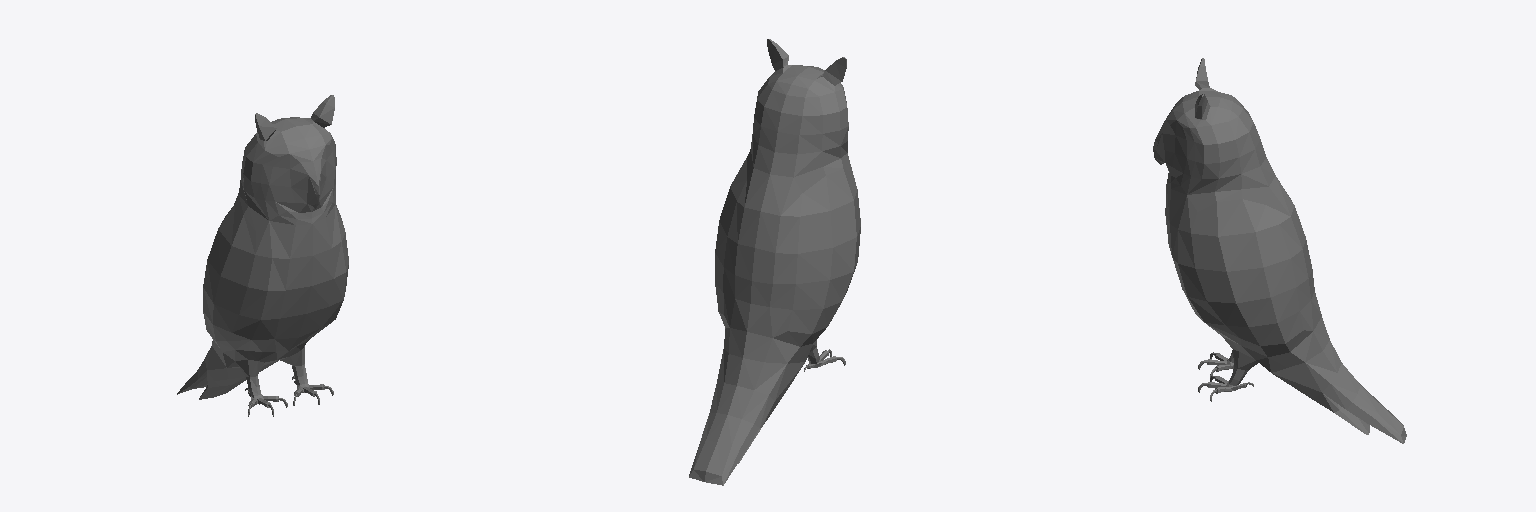
The model's file is LongEaredOwl.obj.
3 renders of one model, left to right at view 1: azimuth 30°, elevation 25°; view 2: azimuth 150°, elevation 25°; view 3: azimuth 270°, elevation 25°, orthographic.
Parts seen in each view (by area): view 1: LongEaredOwl_mesh; view 2: LongEaredOwl_mesh; view 3: LongEaredOwl_mesh.
Boxes of the visible parts, x1,y1,x2,y2 form: LongEaredOwl_mesh: [177, 95, 348, 416]; LongEaredOwl_mesh: [689, 39, 860, 485]; LongEaredOwl_mesh: [1153, 58, 1406, 443].
Size of the model in its own units: 4.75 by 12.73 by 8.14.